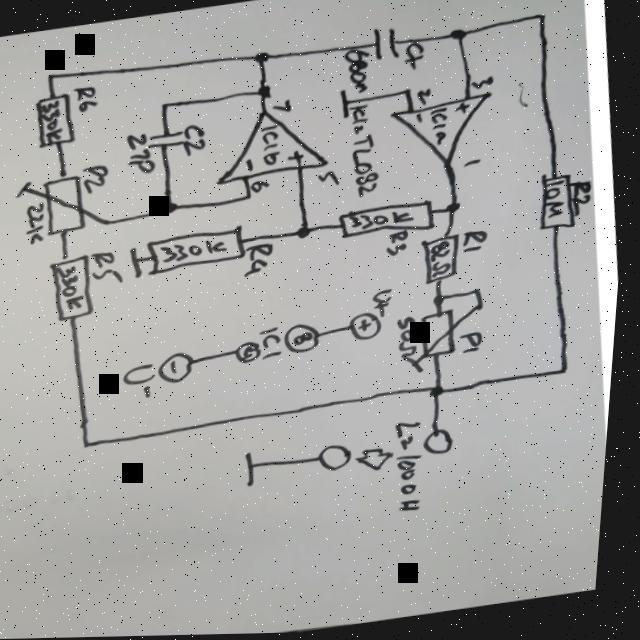capacitor: (369, 25, 403, 64), (147, 129, 190, 150)
ground: (332, 86, 361, 126), (242, 450, 268, 491), (128, 244, 154, 281)
junction: (253, 50, 273, 67), (39, 70, 59, 86), (255, 85, 275, 101), (165, 200, 185, 216), (297, 225, 317, 241), (433, 385, 454, 400), (434, 293, 454, 308), (84, 439, 105, 453), (445, 203, 465, 217), (448, 30, 468, 44), (558, 366, 578, 380), (157, 99, 175, 114), (241, 191, 259, 206), (100, 216, 118, 231), (400, 87, 417, 99), (532, 13, 549, 25), (478, 304, 493, 316), (474, 286, 488, 298)
resistor: (11, 170, 94, 242), (146, 223, 253, 277), (337, 199, 440, 247), (402, 308, 471, 378), (47, 252, 103, 324), (534, 173, 582, 235), (32, 91, 82, 149), (420, 233, 469, 288)
terminal: (285, 321, 328, 357), (162, 351, 205, 386), (317, 443, 363, 475), (428, 424, 466, 459), (352, 311, 389, 344), (237, 340, 269, 366)
text: (393, 419, 441, 516), (343, 102, 388, 201), (161, 236, 233, 265), (339, 46, 377, 97), (120, 131, 160, 179), (55, 263, 93, 313), (351, 209, 418, 234), (124, 362, 164, 403), (23, 199, 56, 247), (92, 248, 131, 288), (242, 242, 281, 279), (39, 98, 68, 144), (396, 317, 426, 361), (541, 181, 572, 223), (427, 241, 458, 280), (258, 125, 286, 168), (567, 180, 597, 220), (260, 325, 290, 363), (181, 122, 211, 159), (82, 163, 115, 195), (429, 107, 454, 148), (371, 288, 400, 321), (71, 85, 101, 114), (400, 43, 428, 73), (387, 230, 415, 259), (462, 230, 493, 255), (461, 333, 490, 358), (270, 97, 297, 117), (317, 170, 343, 190), (293, 331, 320, 349), (469, 76, 497, 93), (248, 179, 275, 196), (416, 88, 435, 109), (460, 159, 486, 172), (244, 345, 263, 361)
